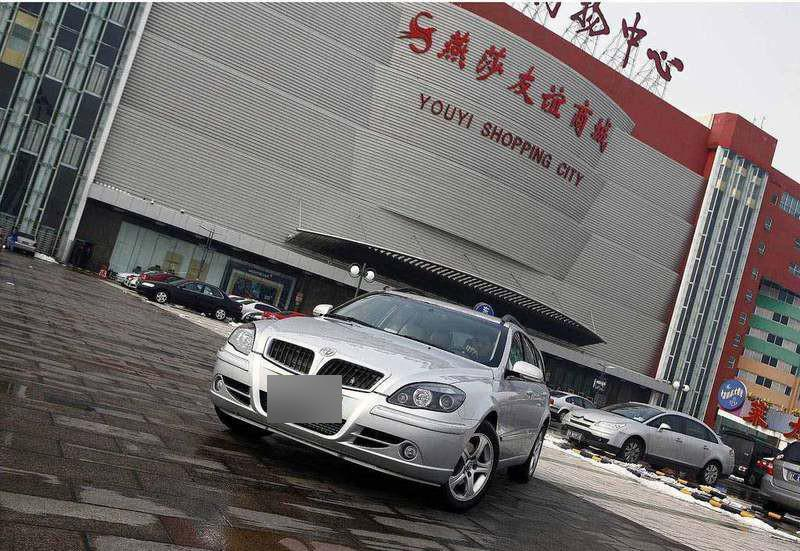Wagon: (207, 284, 553, 514)
